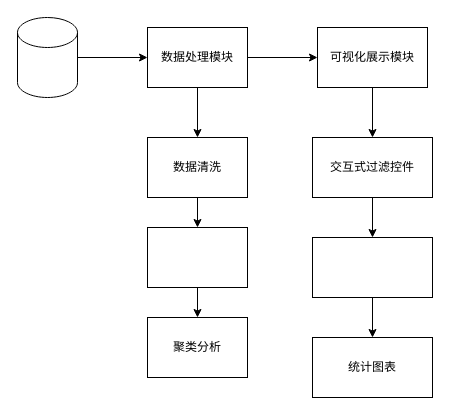
Some shapes in this 450 by 415 pixel diagram are drawn without their labels. The shapes that lost their labels are listed below. From the top down, each one's centre as x and y in pixels, then its label:
(47,57): 数据源
(197,257): 特征提取
(372,267): 地图可视化
